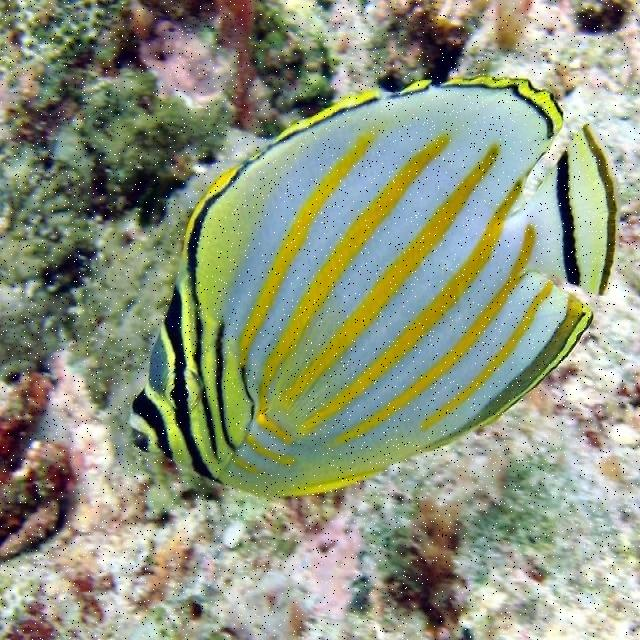fish: (128, 78, 620, 500)
